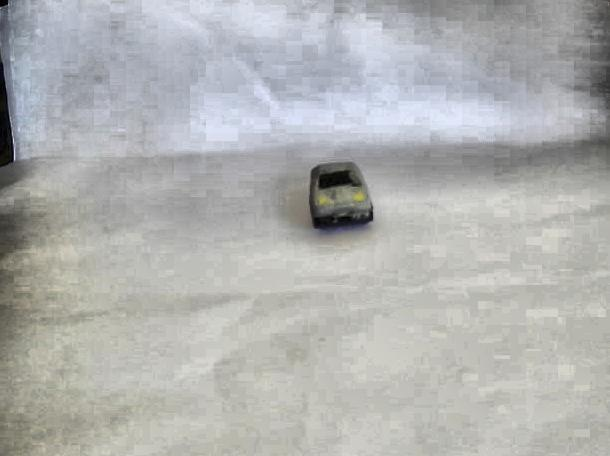normal_car: (306, 160, 377, 231)
